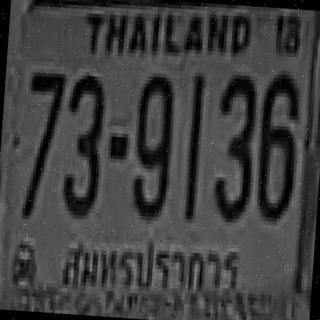N01: (183, 72, 203, 208)
N02: (212, 70, 257, 187)
N03: (210, 70, 257, 220), (59, 71, 106, 216)
N06: (253, 69, 300, 219)
N07: (20, 68, 64, 210), (23, 68, 64, 166)
N09: (127, 72, 174, 217)
P57: (52, 226, 245, 302)
